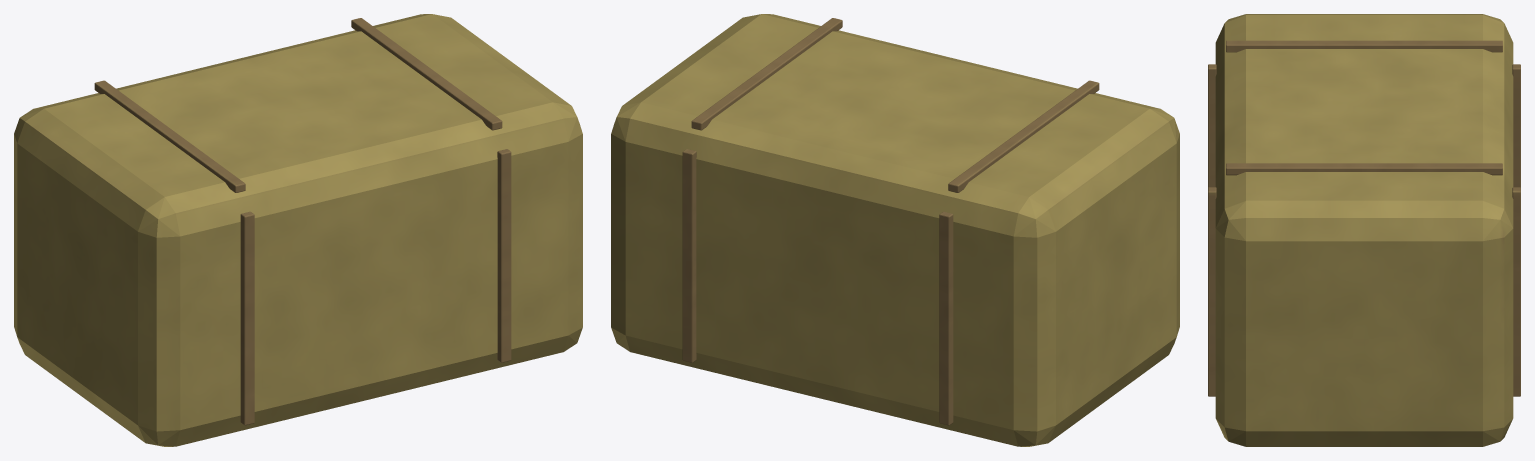
File: Hay_Bale.fbx
3 views of the same model, side by side, from view 1: azimuth 30°, elevation 25°; view 2: azimuth 150°, elevation 25°; view 3: azimuth 270°, elevation 25° (orthographic).
Visible parts, largest first — view 1: Hay_Bale.001; view 2: Hay_Bale.001; view 3: Hay_Bale.001.
Part boxes in pixels (box(x1,y1,x2,y2)): Hay_Bale.001: box(14, 14, 582, 446); Hay_Bale.001: box(611, 14, 1179, 446); Hay_Bale.001: box(1208, 14, 1520, 446).
Size of the model in its own units: 1.48 by 0.8125 by 0.925.
